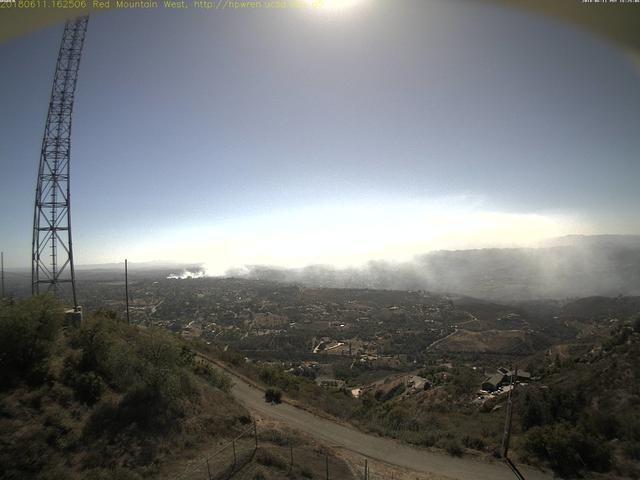Smoke: (167, 218, 542, 304)
